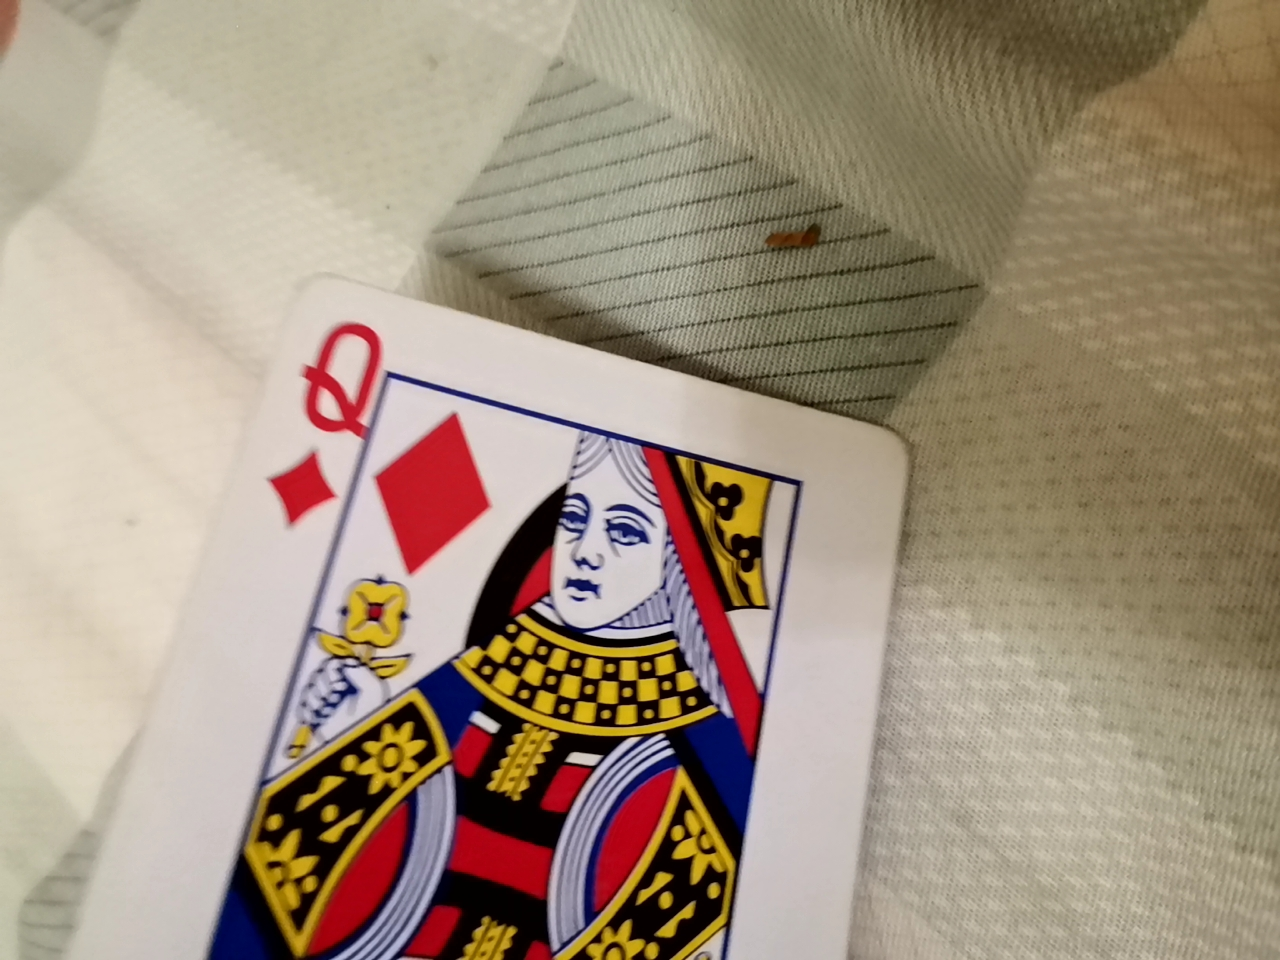fk q: (0, 247, 942, 956)
